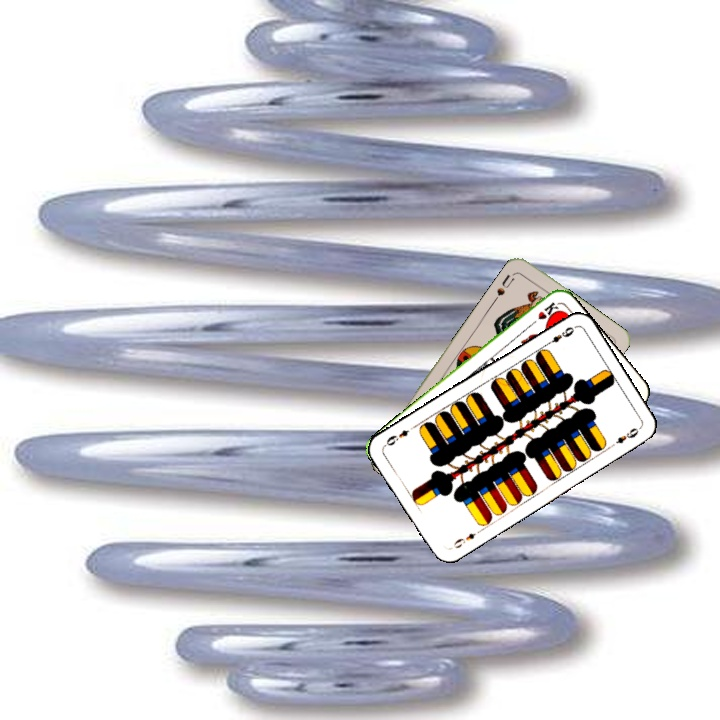E9: (446, 526, 483, 552), (541, 323, 577, 349)
HK: (525, 298, 561, 330)
SU: (490, 270, 517, 304)
